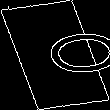O_W: (6, 28, 104, 82)
